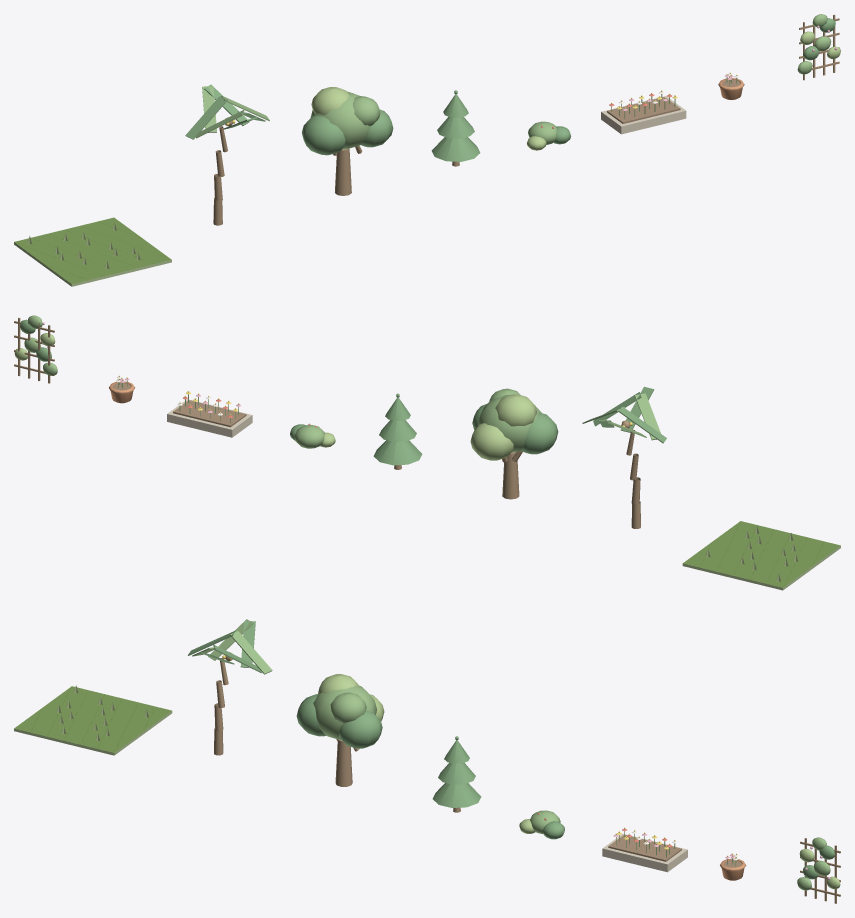
The model's file is kit-17-vegetasi.glb.
3 renders of one model, top to bottom at view 1: azimuth 30°, elevation 25°; view 2: azimuth 150°, elevation 25°; view 3: azimuth 330°, elevation 25°, orthographic.
Visible parts, largest first — view 1: Vege_PetakRumput, Vege_PohonRindang, Vege_PohonPalem, Vege_PetakBunga, Vege_PohonCemara, Vege_TanamanRambat, Vege_Semak; view 2: Vege_PetakRumput, Vege_PohonRindang, Vege_PohonPalem, Vege_PetakBunga, Vege_PohonCemara, Vege_TanamanRambat, Vege_Semak; view 3: Vege_PetakRumput, Vege_PohonRindang, Vege_PohonPalem, Vege_PetakBunga, Vege_PohonCemara, Vege_TanamanRambat, Vege_Semak.
Boxes of the visible parts, left/top/right/bottom form: Vege_PetakRumput: left=14, top=217, right=171, bottom=286; Vege_PohonRindang: left=302, top=87, right=393, bottom=195; Vege_PohonPalem: left=185, top=84, right=269, bottom=225; Vege_PetakBunga: left=601, top=90, right=686, bottom=134; Vege_PohonCemara: left=431, top=90, right=480, bottom=166; Vege_TanamanRambat: left=797, top=14, right=840, bottom=80; Vege_Semak: left=527, top=121, right=570, bottom=150; Vege_PetakRumput: left=682, top=521, right=840, bottom=590; Vege_PohonRindang: left=470, top=388, right=558, bottom=499; Vege_PohonPalem: left=582, top=386, right=666, bottom=528; Vege_PetakBunga: left=167, top=391, right=252, bottom=437; Vege_PohonCemara: left=373, top=393, right=422, bottom=469; Vege_TanamanRambat: left=14, top=315, right=57, bottom=383; Vege_Semak: left=290, top=423, right=335, bottom=448; Vege_PetakRumput: left=14, top=685, right=172, bottom=755; Vege_PohonRindang: left=296, top=674, right=384, bottom=786; Vege_PohonPalem: left=188, top=619, right=272, bottom=755; Vege_PetakBunga: left=602, top=827, right=687, bottom=872; Vege_PohonCemara: left=432, top=736, right=481, bottom=812; Vege_TanamanRambat: left=797, top=837, right=840, bottom=903; Vege_Semak: left=519, top=810, right=564, bottom=839.
Size of the model in its own units: 31.83 by 4.56 by 4.
13 materials, 1 textured.
